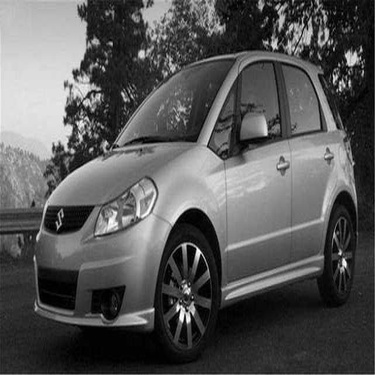car: (8, 30, 356, 335)
